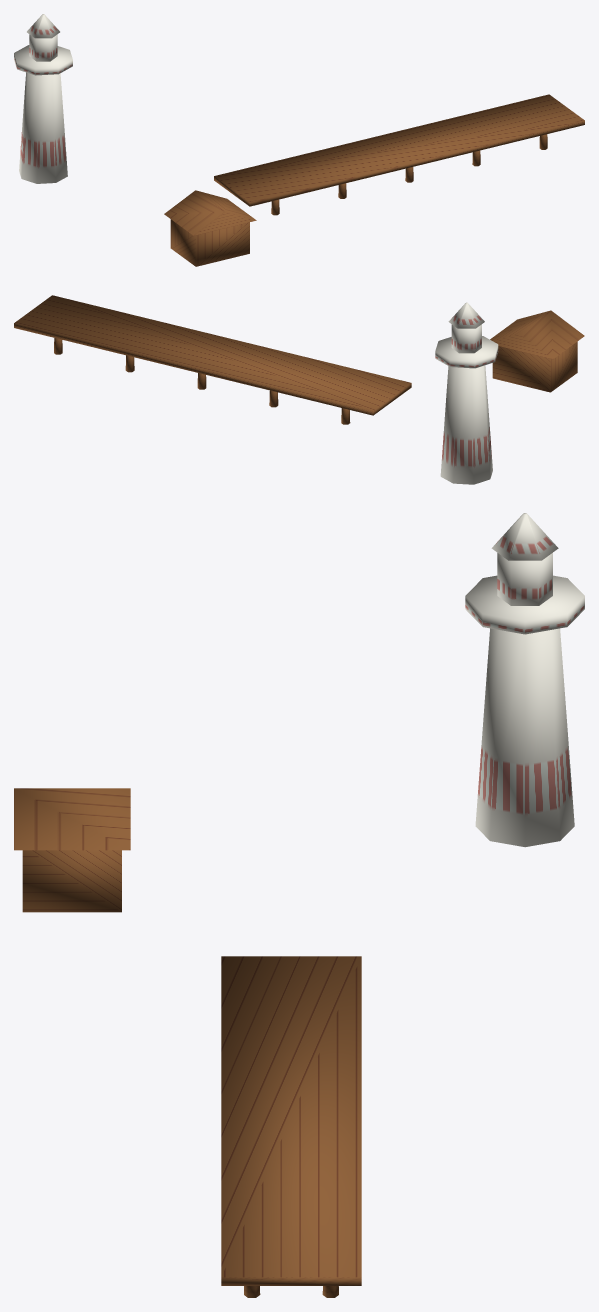
File: PORT_LOD1.fbx
3 views of the same model, one above another, from view 1: azimuth 30°, elevation 25°; view 2: azimuth 150°, elevation 25°; view 3: azimuth 270°, elevation 25° (orthographic). The views are drawn at different scales.
Parts seen in each view (by area): view 1: PORT_LOD1; view 2: PORT_LOD1; view 3: PORT_LOD1.
Part boxes in pixels (x1,y1,x2,y2): PORT_LOD1: (14,14,584,266); PORT_LOD1: (14,295,584,484); PORT_LOD1: (14,513,584,1297).
Size of the model in its own units: 38.05 by 19.55 by 13.93.
